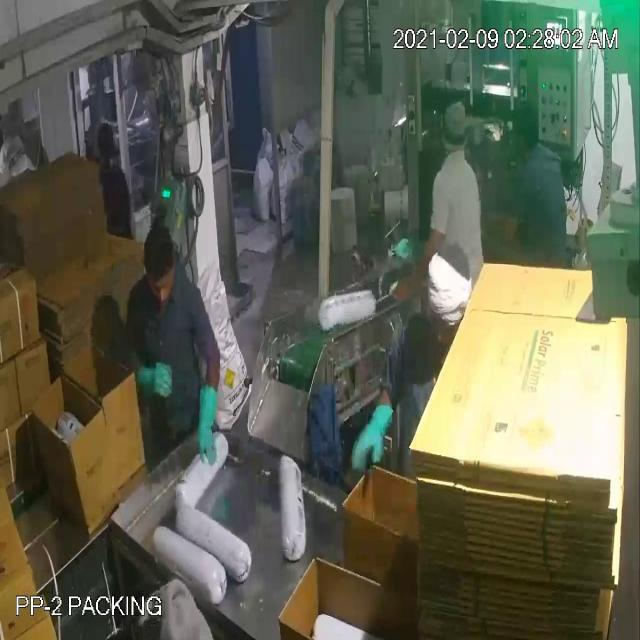gloves: (188, 372, 226, 478), (348, 396, 394, 476), (120, 350, 176, 412)
no-gloves: (393, 235, 445, 305)
